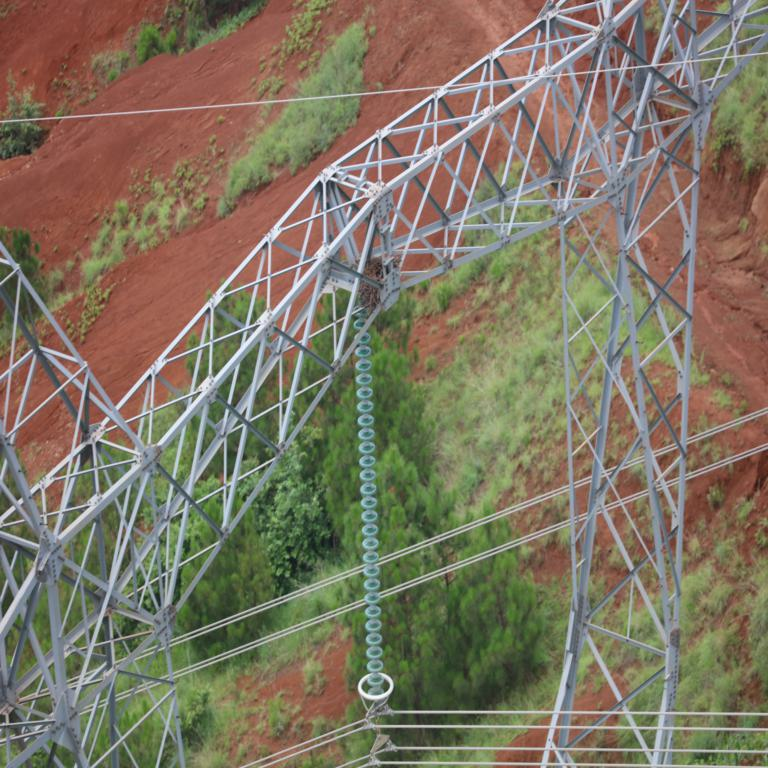nest: (354, 264, 390, 303)
